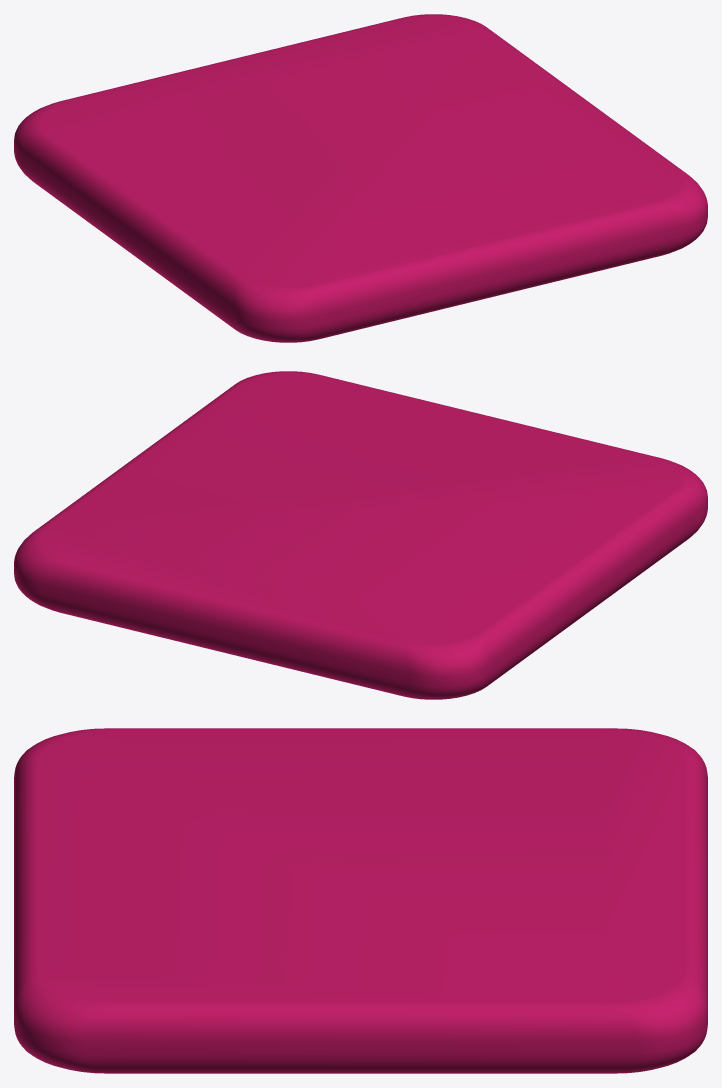
Rendered from platformorbay (1).fbx.
The picture shows the model from 3 angles, top to bottom: view 1: azimuth 30°, elevation 25°; view 2: azimuth 150°, elevation 25°; view 3: azimuth 270°, elevation 25°; orthographic projection. The views are drawn at different scales.
Visible parts, largest first — view 1: Cube; view 2: Cube; view 3: Cube.
Boxes of the visible parts, x1,y1,x2,y2 form: Cube: [14, 14, 707, 342]; Cube: [14, 371, 707, 699]; Cube: [14, 728, 707, 1073].
Bounding box in the file's own units: 673 × 73.67 × 673.
Materials: 1 (1 with a texture image).
